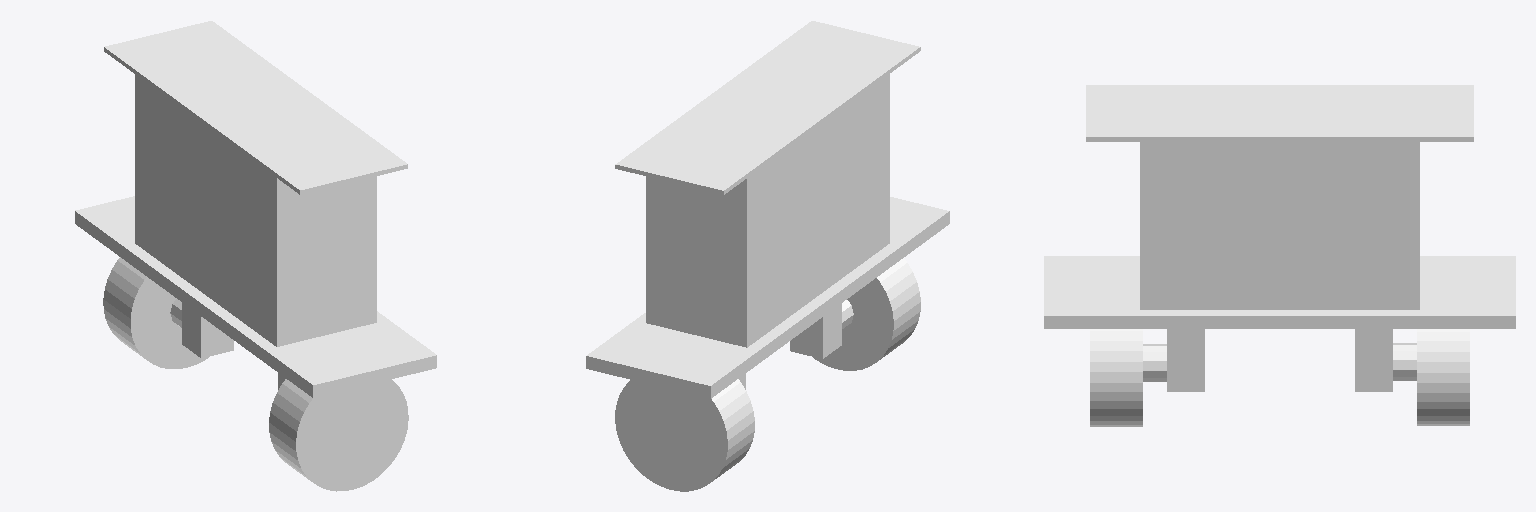
URDF robot description (selfass):
<robot
  name="selfass">
  <link
    name="base_link">
    <inertial>
      <origin
        xyz="-9.25383413112662E-19 0.0238066398638773 3.87702516807445E-06"
        rpy="0 0 0" />
      <mass
        value="0.265245594599213" />
      <inertia
        ixx="0"
        ixy="0"
        ixz="0"
        iyy="0"
        iyz="0"
        izz="0" />
    </inertial>
    <visual>
      <origin
        xyz="0 0 0"
        rpy="0 0 0" />
      <geometry>
        <mesh
          filename="package://selfass/meshes/base_link.STL" />
      </geometry>
      <material
        name="">
        <color
          rgba="1 1 1 0.3" />
      </material>
    </visual>
    <collision>
      <origin
        xyz="0 0 0"
        rpy="0 0 0" />
      <geometry>
        <mesh
          filename="package://selfass/meshes/base_link.STL" />
      </geometry>
    </collision>
  </link>
  <link
    name="lwheel">
    <inertial>
      <origin
        xyz="-4.9873E-17 1.3878E-17 -0.0125"
        rpy="0 0 0" />
      <mass
        value="0.070686" />
      <inertia
        ixx="0"
        ixy="0"
        ixz="0"
        iyy="0"
        iyz="0"
        izz="0" />
    </inertial>
    <visual>
      <origin
        xyz="0 0 0"
        rpy="0 0 0" />
      <geometry>
        <mesh
          filename="package://selfass/meshes/lwheel.STL" />
      </geometry>
      <material
        name="">
        <color
          rgba="1 1 1 1" />
      </material>
    </visual>
    <collision>
      <origin
        xyz="0 0 0"
        rpy="0 0 0" />
      <geometry>
        <mesh
          filename="package://selfass/meshes/lwheel.STL" />
      </geometry>
    </collision>
  </link>
  <joint
    name="j1"
    type="continuous">
    <origin
      xyz="0 0.0638 -0.032388"
      rpy="1.5708 -0.10184 6.2575E-18" />
    <parent
      link="base_link" />
    <child
      link="lwheel" />
    <axis
      xyz="0 0 1" />
    <dynamics
      damping="0.01"
      friction="0.5" />
  </joint>
  <link
    name="rwheel">
    <inertial>
      <origin
        xyz="2.949E-17 -1.0408E-17 -0.0125"
        rpy="0 0 0" />
      <mass
        value="0.070686" />
      <inertia
        ixx="0"
        ixy="0"
        ixz="0"
        iyy="0"
        iyz="0"
        izz="0" />
    </inertial>
    <visual>
      <origin
        xyz="0 0 0"
        rpy="0 0 0" />
      <geometry>
        <mesh
          filename="package://selfass/meshes/rwheel.STL" />
      </geometry>
      <material
        name="">
        <color
          rgba="1 1 1 1" />
      </material>
    </visual>
    <collision>
      <origin
        xyz="0 0 0"
        rpy="0 0 0" />
      <geometry>
        <mesh
          filename="package://selfass/meshes/rwheel.STL" />
      </geometry>
    </collision>
  </link>
  <joint
    name="jr2"
    type="continuous">
    <origin
      xyz="0 -0.0638 -0.032843"
      rpy="-1.5708 0.37529 -2.4122E-17" />
    <parent
      link="base_link" />
    <child
      link="rwheel" />
    <axis
      xyz="0 0 -1" />
    <dynamics
      damping="0.01"
      friction="0.5" />
  </joint>
</robot>

--- Render facts (derived) ---
3 views of the same robot in one strip: view 1: azimuth 30°, elevation 25°; view 2: azimuth 150°, elevation 25°; view 3: azimuth 270°, elevation 25° (orthographic).
Model selfass with 3 links and 2 joints (2 continuous), rooted at base_link, posed every joint at zero.
Visible links, largest first — view 1: base_link, rwheel, lwheel; view 2: base_link, lwheel, rwheel; view 3: base_link, rwheel, lwheel.
Boxes of the visible links, x1,y1,x2,y2 form: base_link: [75, 21, 436, 397]; rwheel: [269, 379, 408, 491]; lwheel: [103, 257, 208, 368]; base_link: [586, 21, 949, 398]; lwheel: [615, 379, 754, 491]; rwheel: [813, 258, 920, 370]; base_link: [1044, 85, 1515, 391]; rwheel: [1090, 329, 1142, 426]; lwheel: [1417, 329, 1469, 425].
Size in the robot's own frame: 0.066 by 0.22 by 0.1596 metres.
3 mesh visuals loaded from 3 distinct referenced files (3 binary STL).